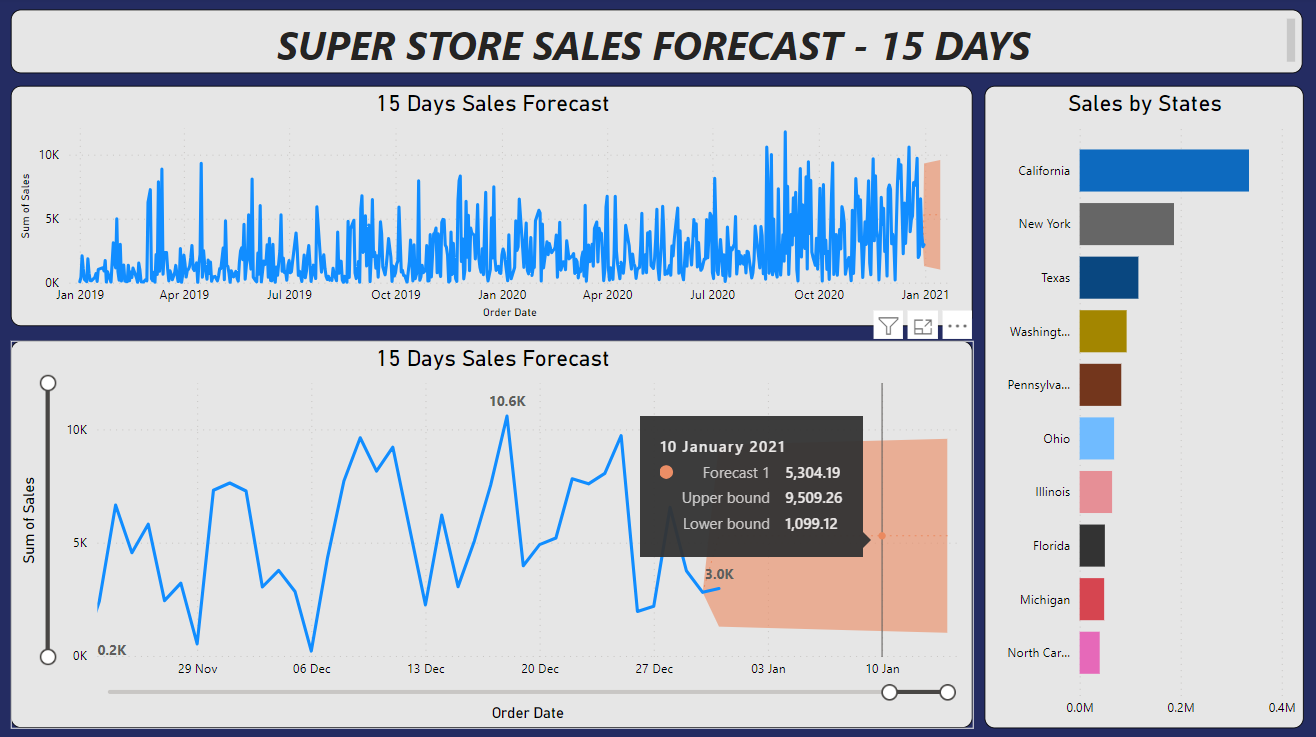

Layout of this report page (visuals, bound fields, positions):
{"tool":"powerbi","page":{"name":"Page 2","canvas":[1280,720],"ordinal":1},"visuals":[{"type":"lineChart","title":"15 Days Sales Forecast","fields":{"Y":["Sum(SuperStore_Sales_Dataset.Sales)"],"Category":["SuperStore_Sales_Dataset.Order Date"]},"box":[18.7,85.3,928,232],"z":0},{"type":"lineChart","title":"15 Days Sales Forecast","fields":{"Y":["Sum(SuperStore_Sales_Dataset.Sales)"],"Category":["SuperStore_Sales_Dataset.Order Date"]},"box":[18.7,332,928,373.3],"z":1000},{"type":"clusteredBarChart","title":"Sales by States","fields":{"Y":["Sum(SuperStore_Sales_Dataset.Sales)"],"Category":["SuperStore_Sales_Dataset.State"]},"box":[957.3,85.3,308,620],"z":2000},{"type":"textbox","box":[18.7,12,1246.7,61.3],"z":3000}]}

Visuals, with their boxes in screenshot pixels (x1, y1, x2, y2), scaled from the page's 1280x720 canvas onto the 1316x737 screenshot:
"15 Days Sales Forecast" lineChart: (19,87,973,325)
"15 Days Sales Forecast" lineChart: (19,340,973,722)
"Sales by States" clusteredBarChart: (984,87,1301,722)
textbox: (19,12,1301,75)
